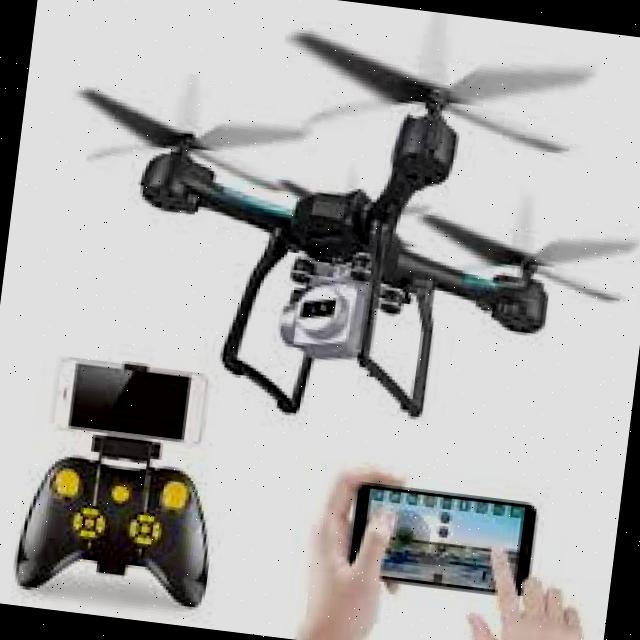drone: (29, 6, 616, 441)
